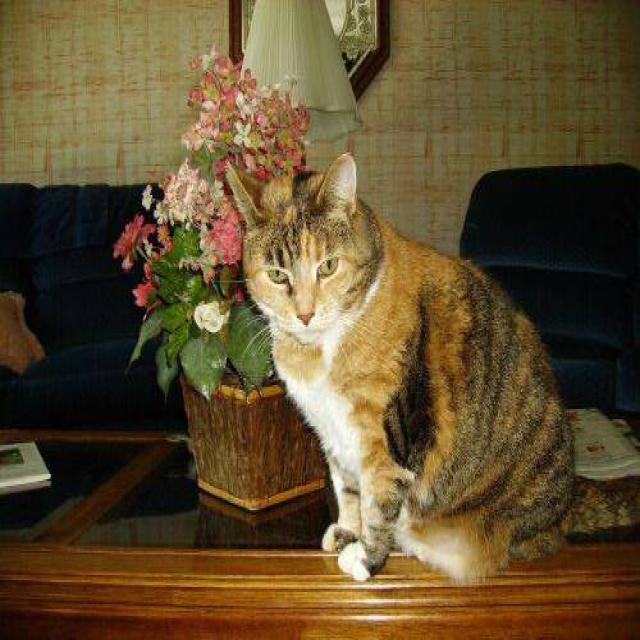cat: (224, 149, 639, 585)
